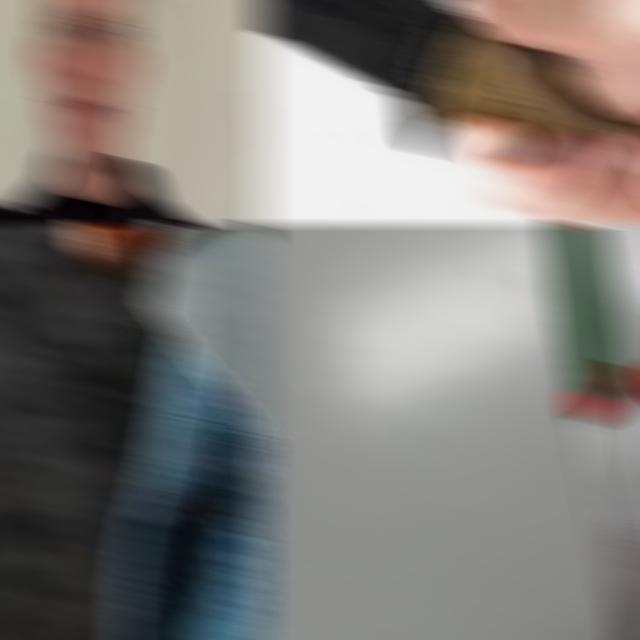Knife: (254, 0, 640, 159), (548, 222, 640, 640), (135, 222, 270, 436)
